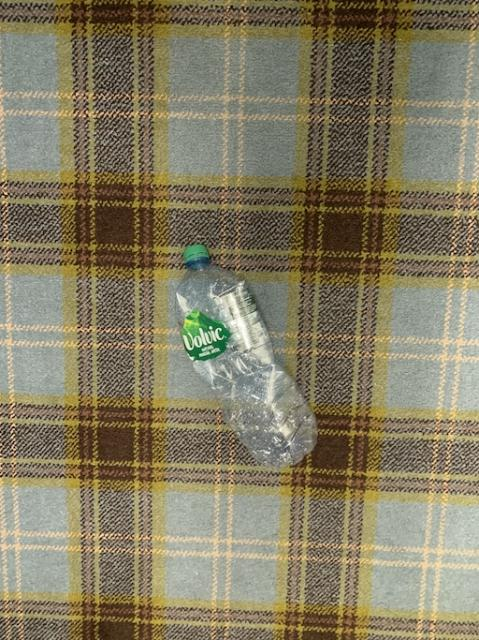plastic: (175, 244, 316, 467)
